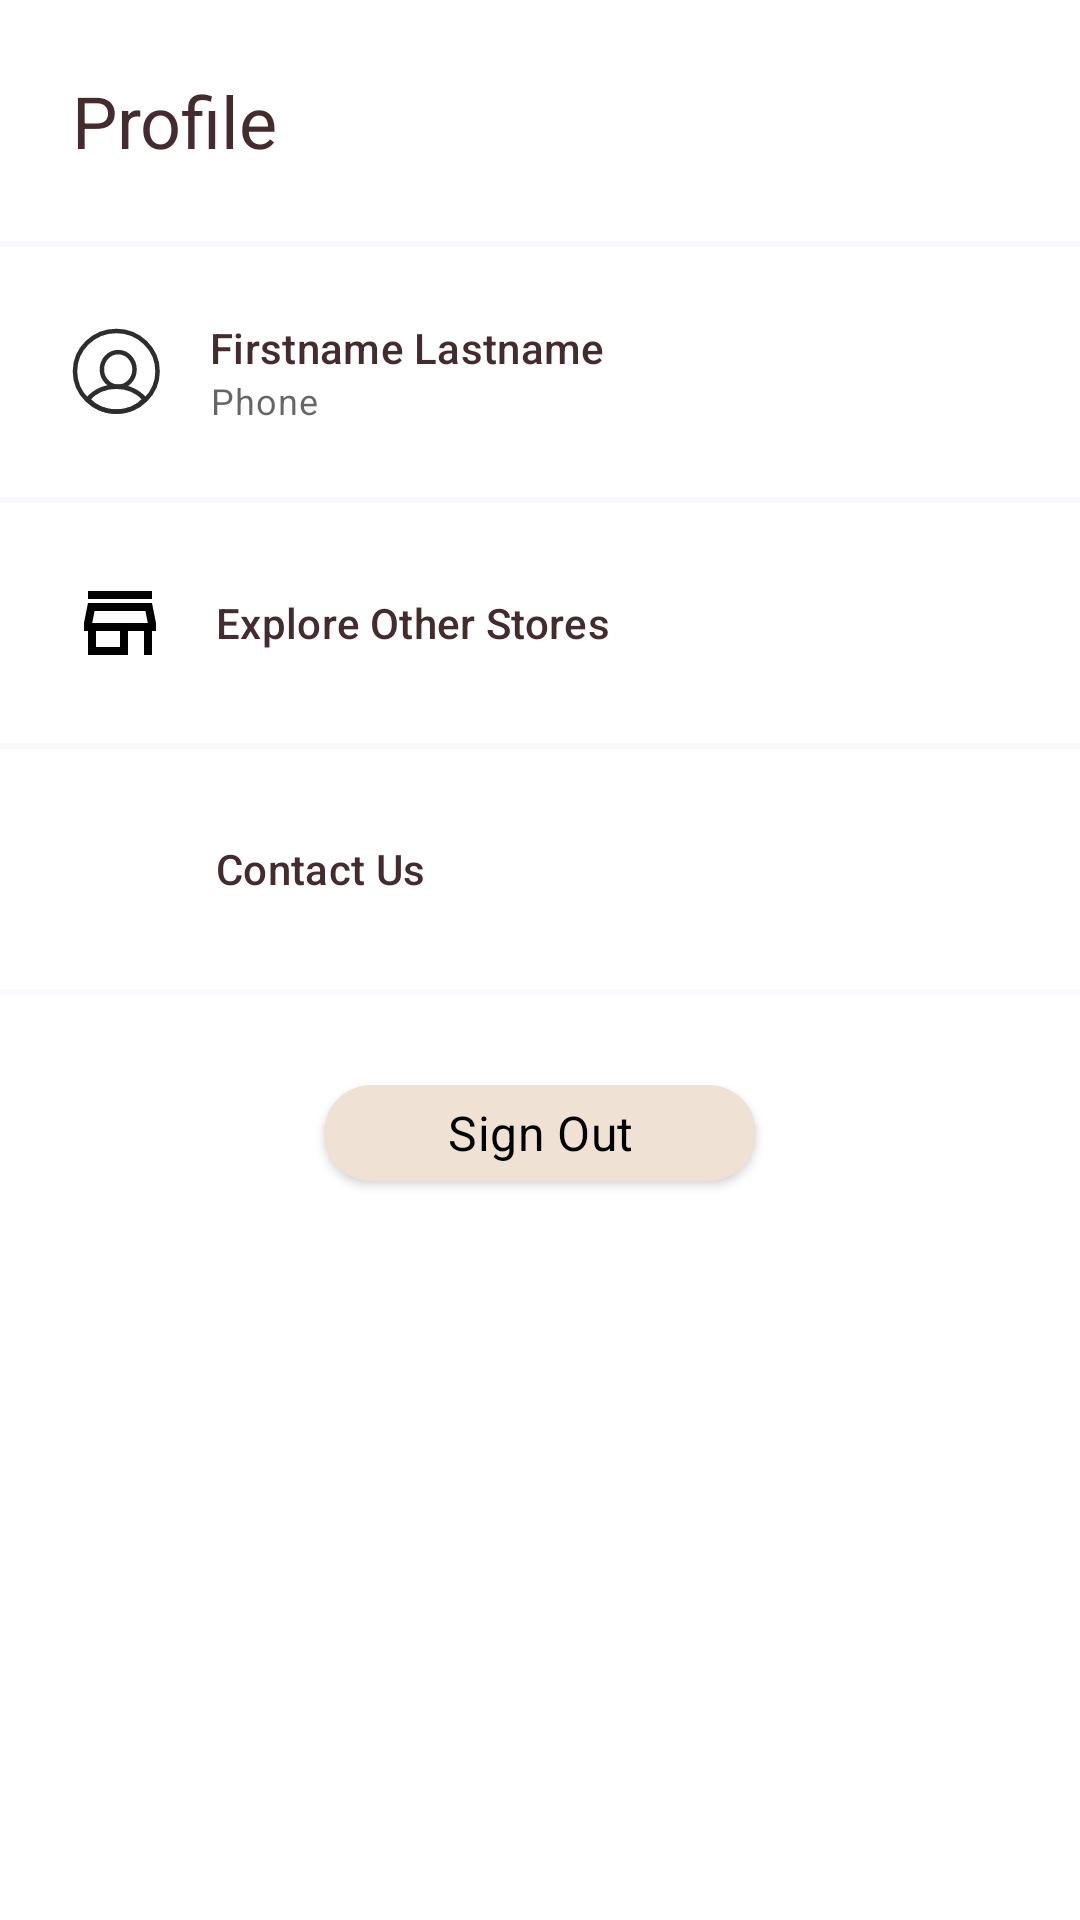

Icon click points for this 1080w x 1920h phone screenshot, format point (x, y):
zep profile: point (116, 371)
